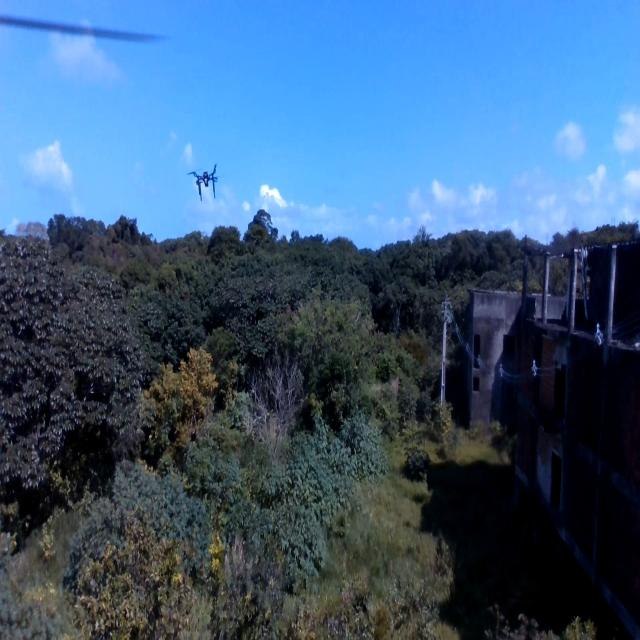-uav-: (185, 156, 224, 204)
